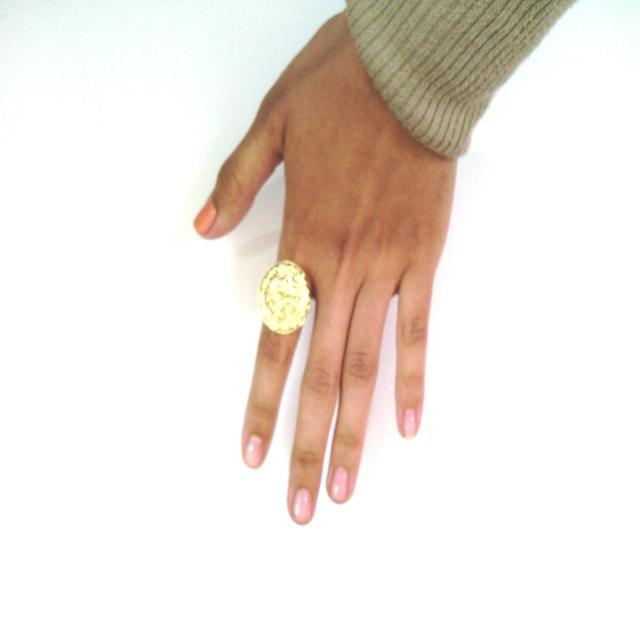Fingernail: (194, 200, 216, 233), (293, 488, 311, 523), (331, 467, 348, 501), (247, 437, 263, 465), (402, 409, 416, 438)
